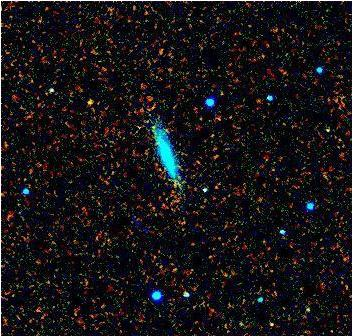star: (72, 81, 102, 111)
